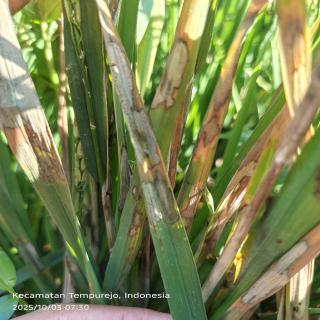Blast: (104, 39, 185, 231), (147, 36, 198, 119), (6, 135, 70, 192), (264, 236, 318, 279), (205, 55, 238, 114), (221, 156, 261, 201), (194, 114, 225, 148), (121, 209, 144, 240), (128, 182, 144, 203)
